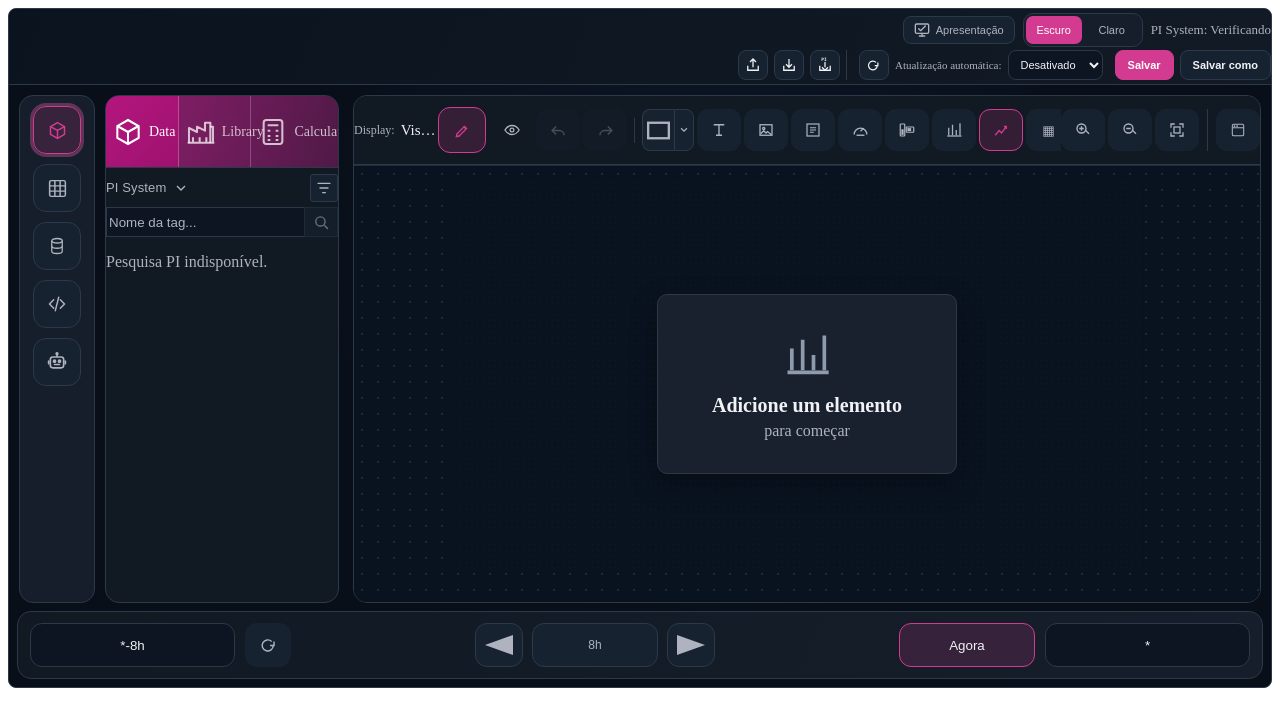
Scenario: App › exibe o módulo de Cálculos à direita de Library
Click the tab with test id "pims-vision-calculations-tab" at [295, 132], box [251,96,338,167]
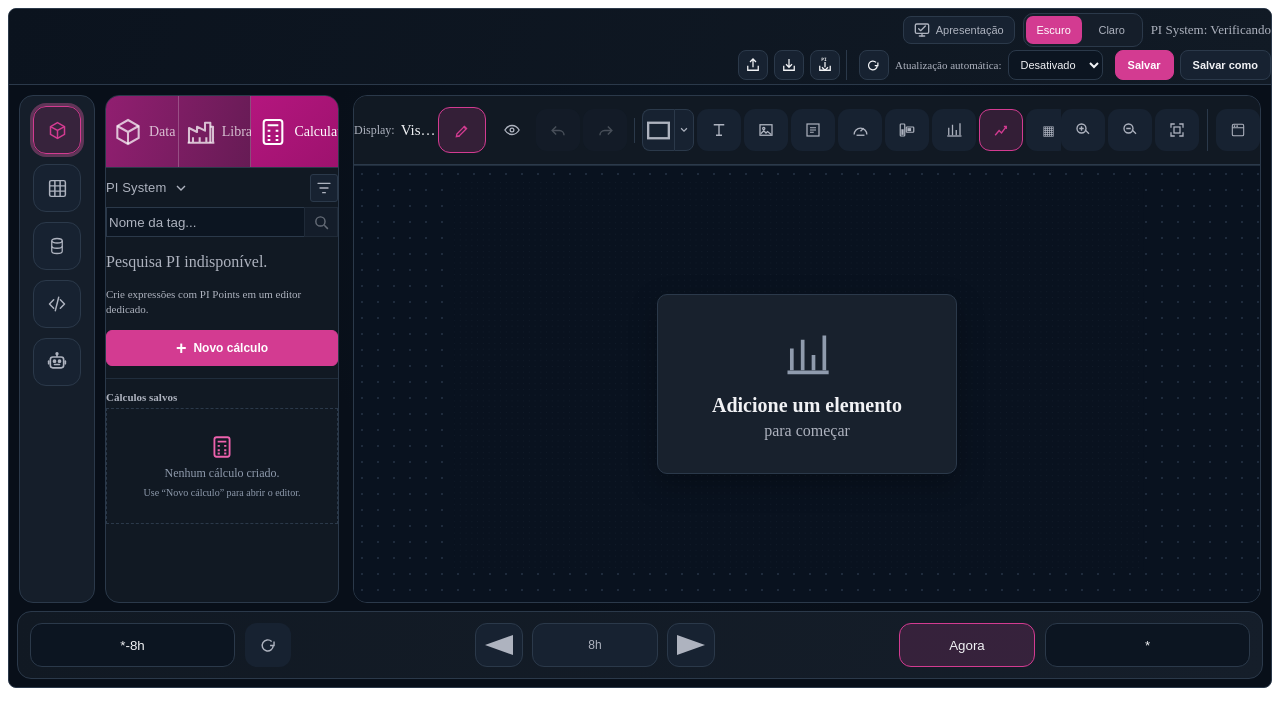
Now the element with test id "calculations-panel" is shown, box [106,287,338,524]
